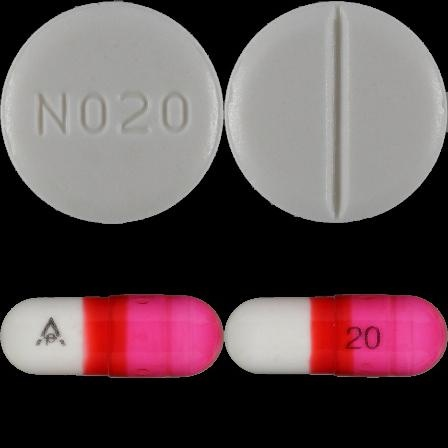50090-0042: (0, 0, 224, 224)
